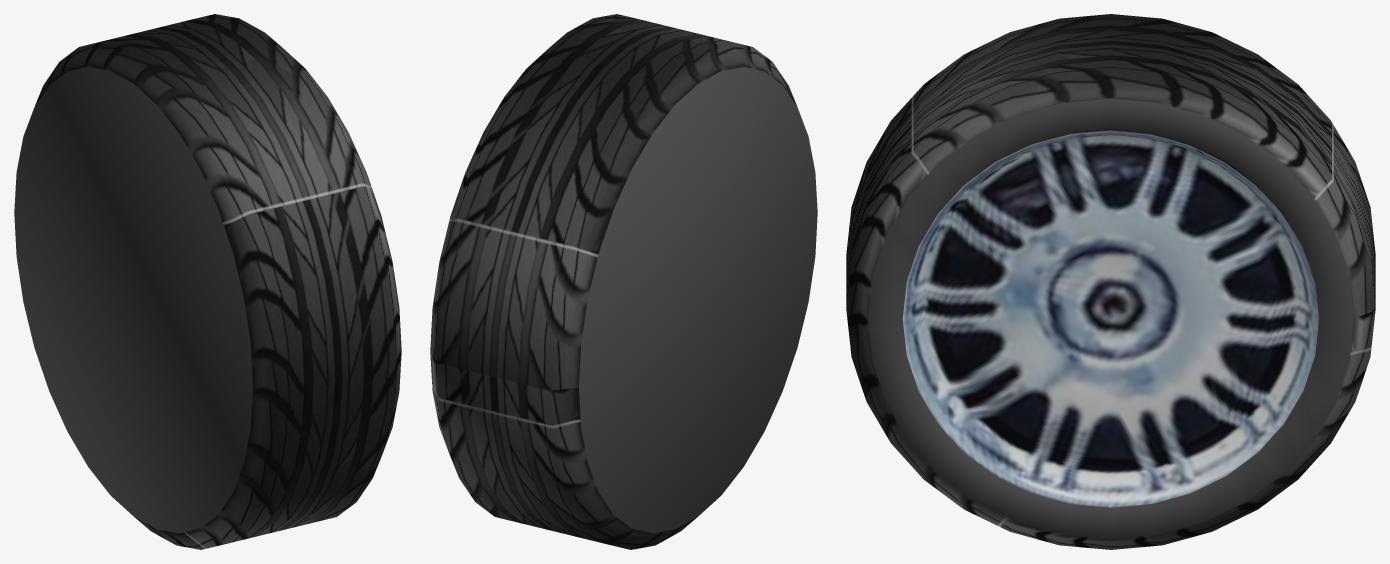
File: wheel9.fbx
3 views of the same model, side by side, from view 1: azimuth 30°, elevation 25°; view 2: azimuth 150°, elevation 25°; view 3: azimuth 270°, elevation 25° (orthographic).
Visible parts, largest first — view 1: Cylinder; view 2: Cylinder; view 3: Cylinder.
Boxes of the visible parts, <box> form: Cylinder: <box>14,14,401,549</box>; Cylinder: <box>430,14,817,549</box>; Cylinder: <box>846,14,1375,549</box>.
Bounding box in the file's own units: 64.69 × 196 × 196.
1 material, 1 textured.
